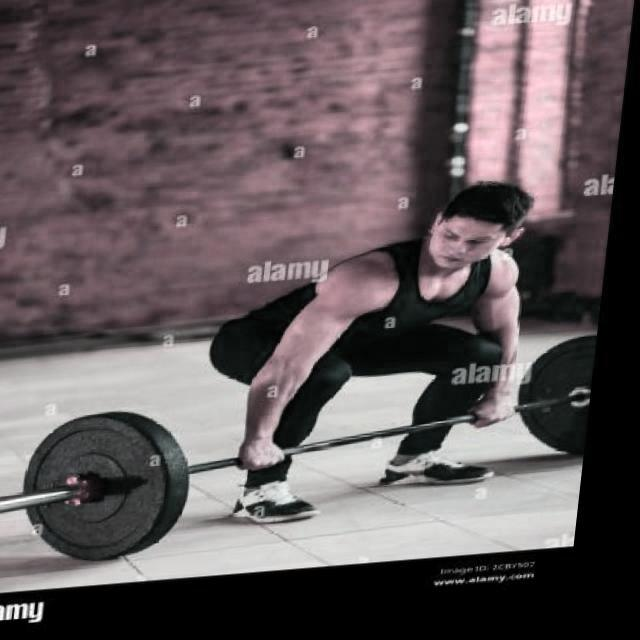barbell: (1, 407, 195, 582)
